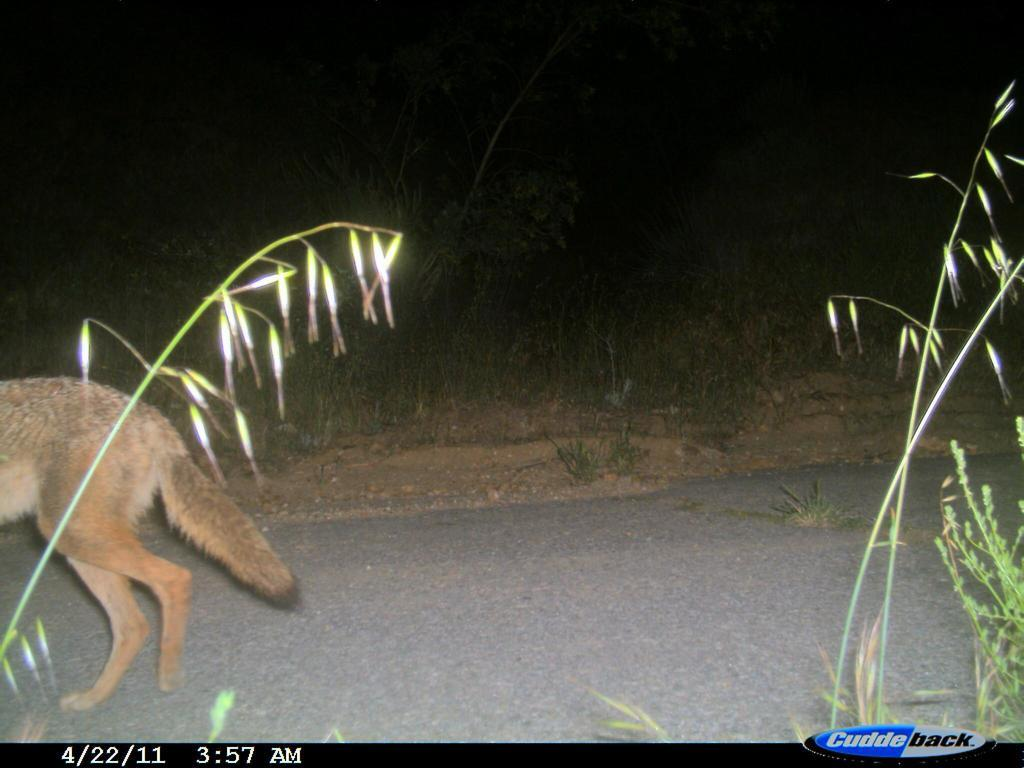coyote: (4, 323, 290, 725)
